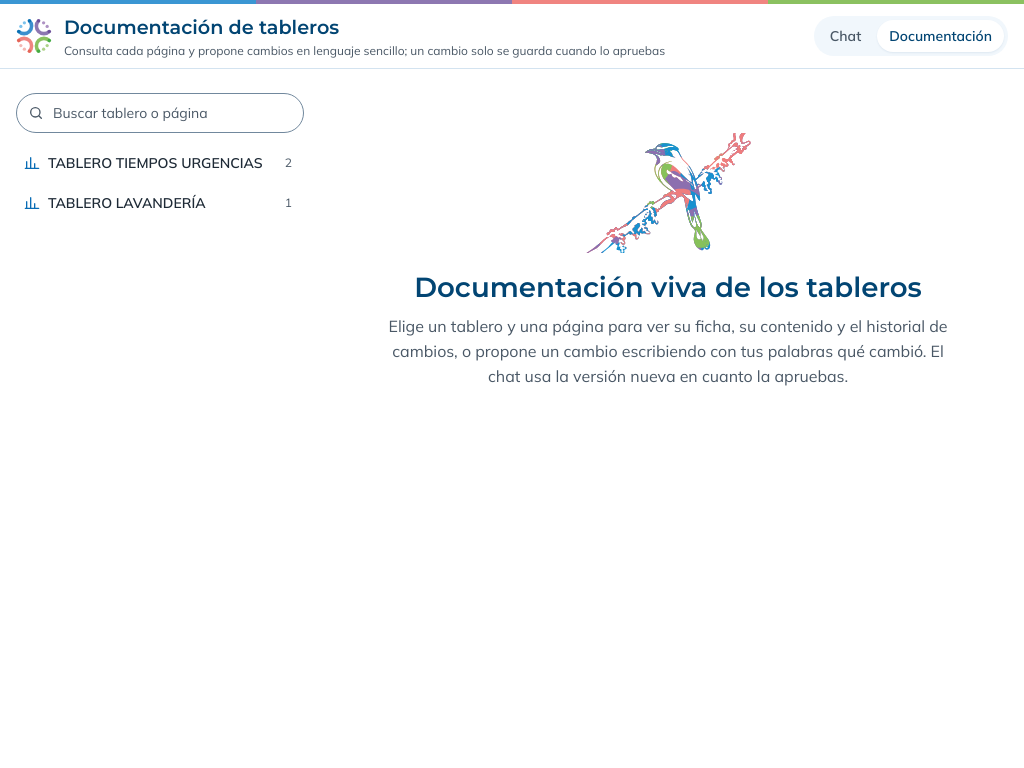
Test: Documentación: proponer y revisar › envía la nota con la página elegida y espera con frases de trabajo
The width and height of the screenshot is (1024, 768).
Click the button "TABLERO TIEMPOS URGENCIAS 2" at x=158, y=163, box 16,145 -> 300,181
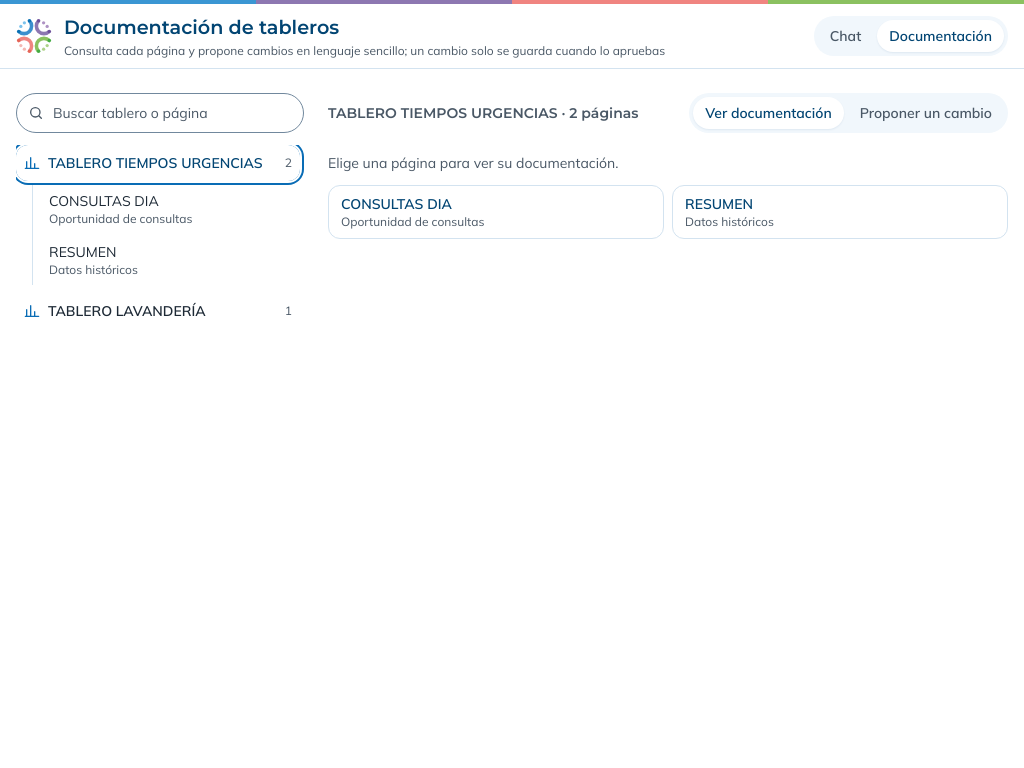
Click the 1st button "CONSULTAS DIA Oportunidad de consultas" at x=170, y=209, box 41,185 -> 300,233
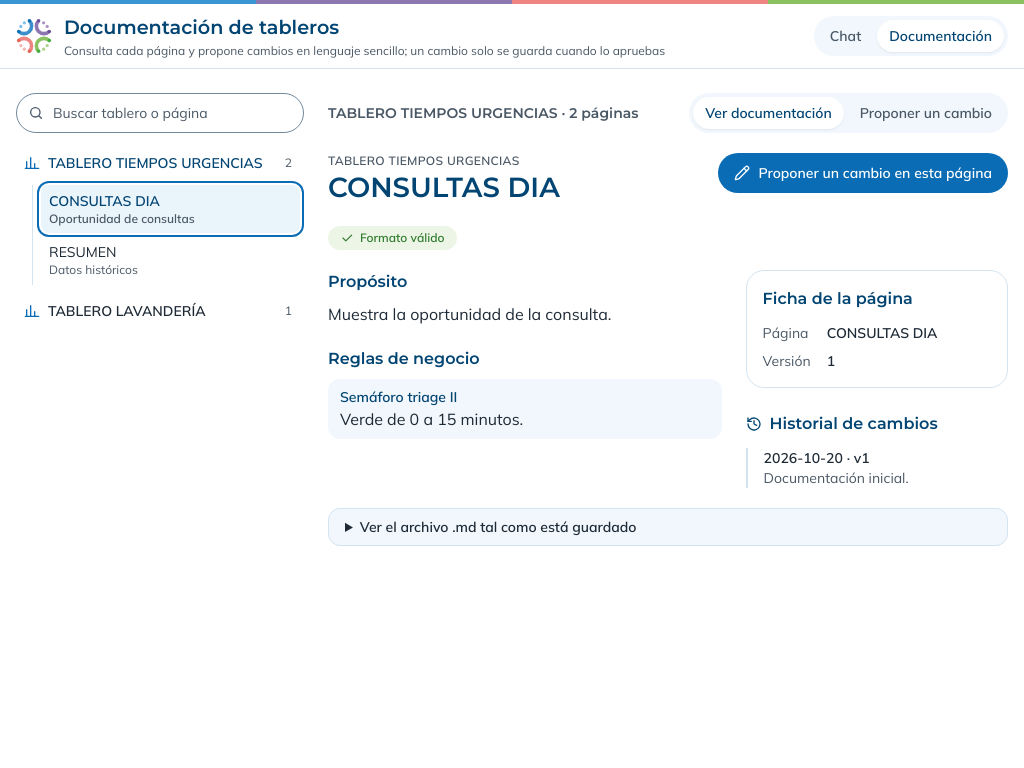
Check: the heading "CONSULTAS DIA" is shown, box 328,170 -> 560,204
Click the button "Proponer un cambio en esta página" at x=863, y=173, box 718,153 -> 1008,193
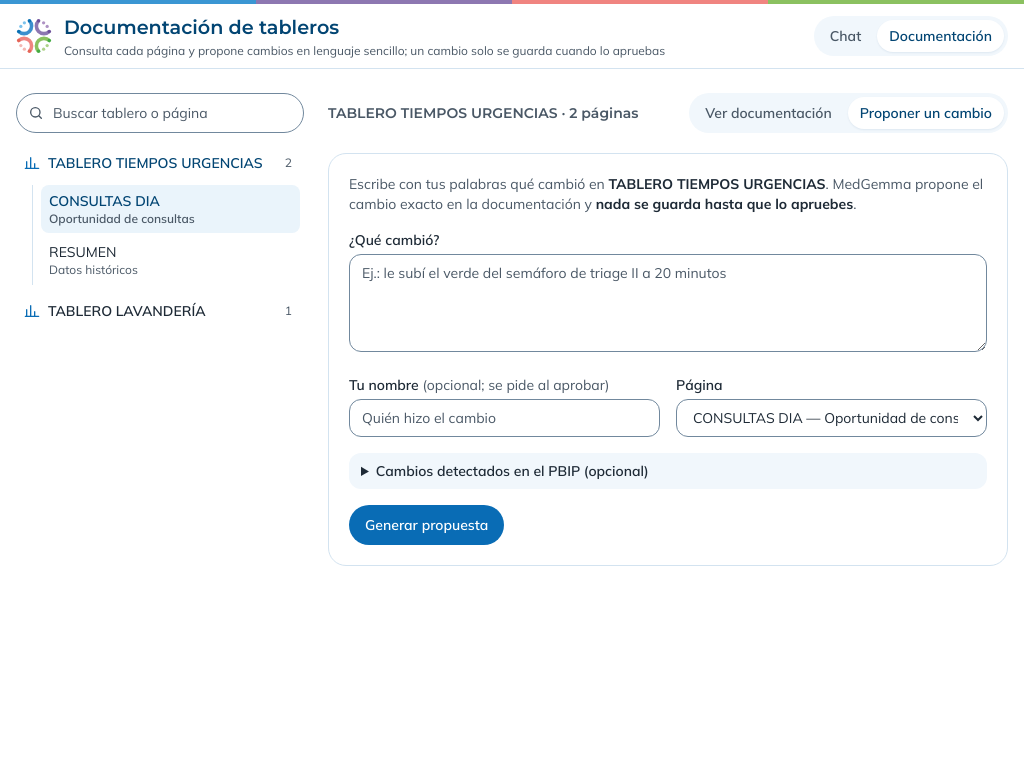
Type "subí el verde del semáforo a 20" into the text box labelled "¿Qué cambió?" at x=668, y=303, box 349,254 -> 987,352
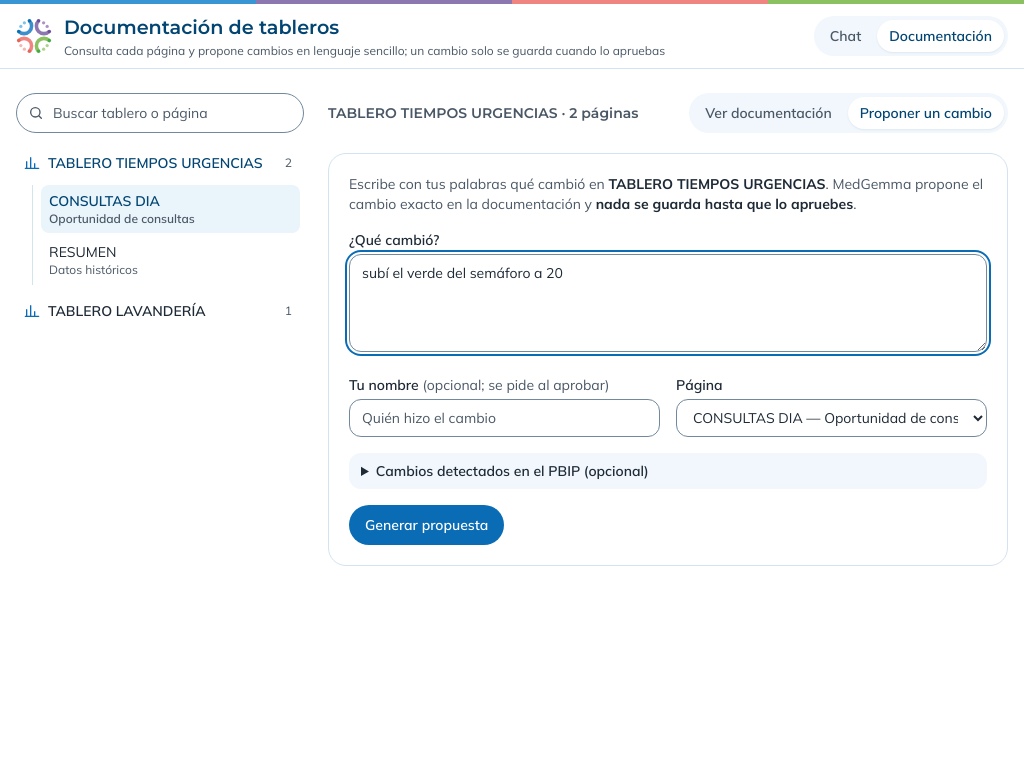
Click the button "Generar propuesta" at x=427, y=525, box 349,505 -> 504,545
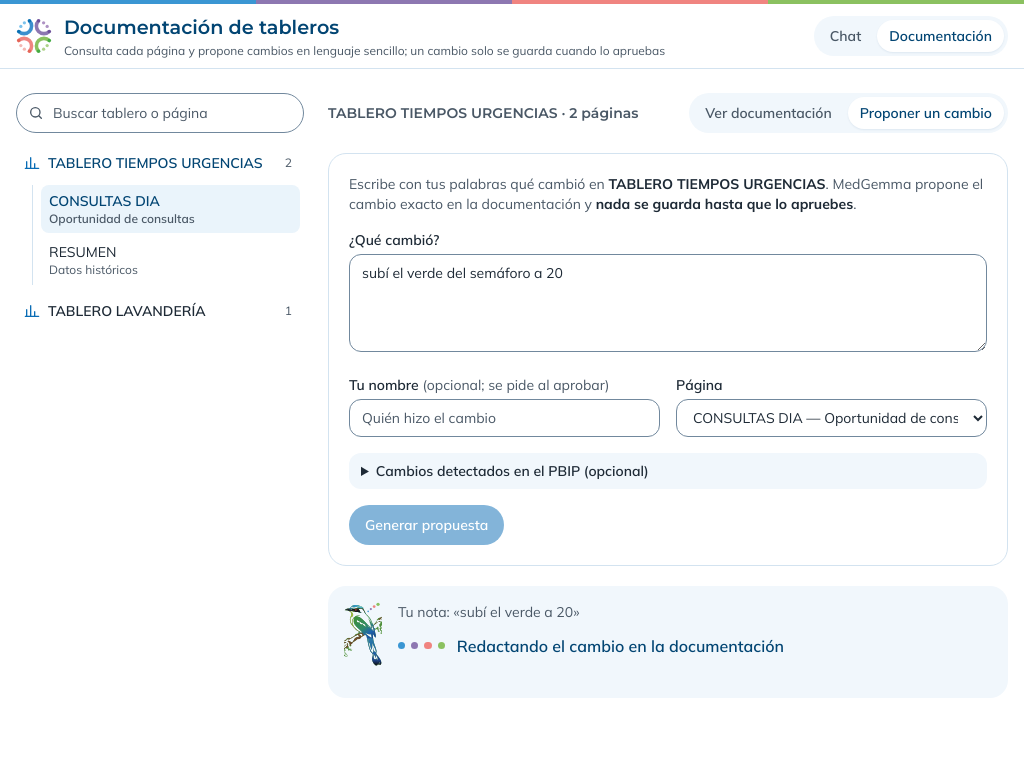
Check: the text "Redactando el cambio en la documentación" is shown, box 457,634 -> 992,658
